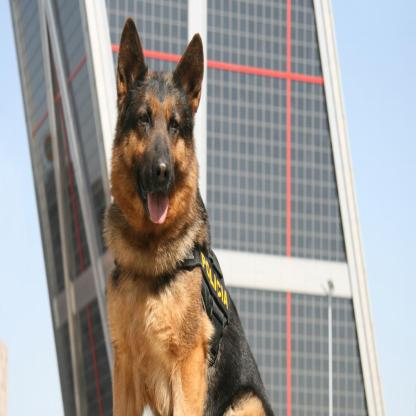dog: (102, 18, 275, 416)
